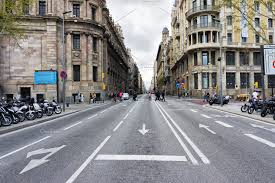strada: (9, 104, 275, 180)
